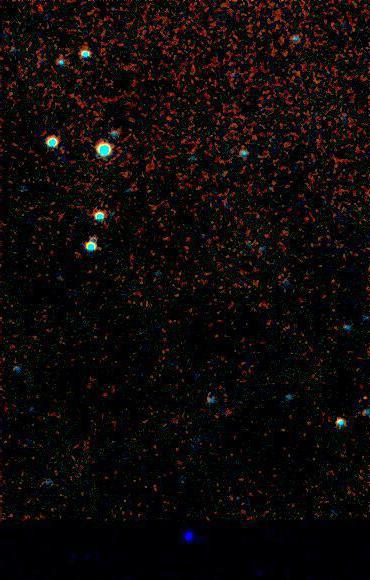star: (344, 381, 370, 411)
